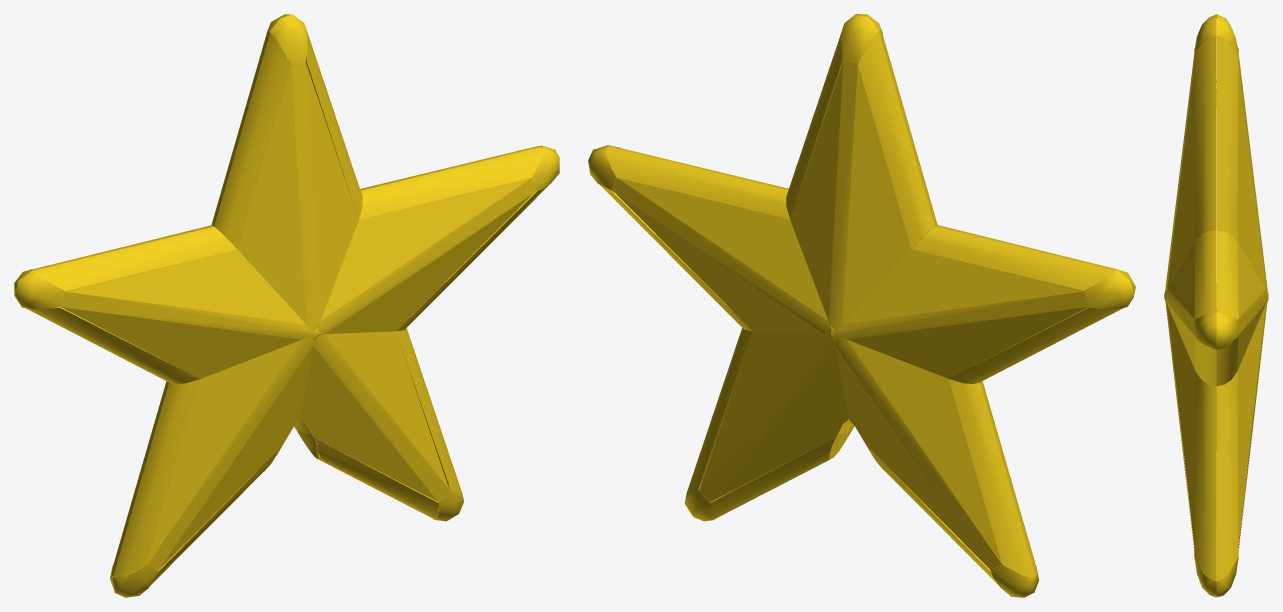
Rendered from estrella.glb.
The picture shows the model from 3 angles, left to right: view 1: azimuth 30°, elevation 25°; view 2: azimuth 150°, elevation 25°; view 3: azimuth 270°, elevation 25°; orthographic projection. The views are drawn at different scales.
Parts seen in each view (by area): view 1: Object_2; view 2: Object_2; view 3: Object_2.
Boxes of the visible parts, x1,y1,x2,y2 form: Object_2: (14,14,559,597); Object_2: (588,14,1135,597); Object_2: (1164,14,1268,597).
Bounding box in the file's own units: 4.07 × 3.87 × 0.7224.
